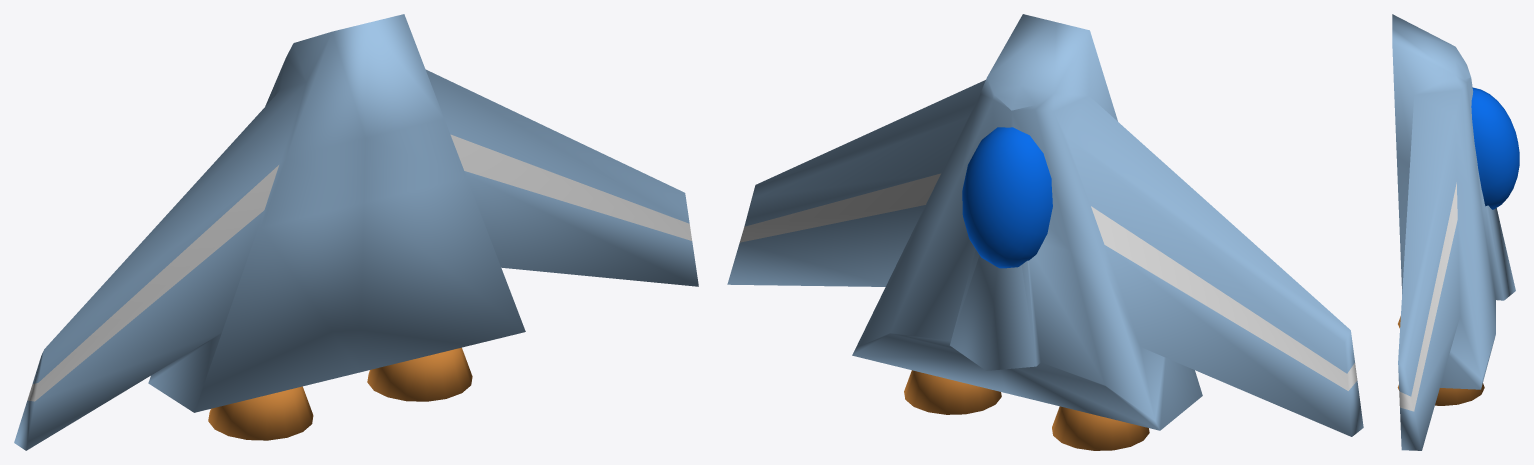
File: heroShip.fbx
The picture shows the model from 3 angles, left to right: view 1: azimuth 30°, elevation 25°; view 2: azimuth 150°, elevation 25°; view 3: azimuth 270°, elevation 25°; orthographic projection. The views are drawn at different scales.
Parts seen in each view (by area): view 1: HeroShip; view 2: HeroShip; view 3: HeroShip.
Part boxes in pixels (x1=…): HeroShip: x1=14, y1=14, x2=698, y2=450; HeroShip: x1=727, y1=14, x2=1363, y2=450; HeroShip: x1=1392, y1=14, x2=1519, y2=450.
Size of the model in its own units: 3.91 by 2.24 by 0.7827.
